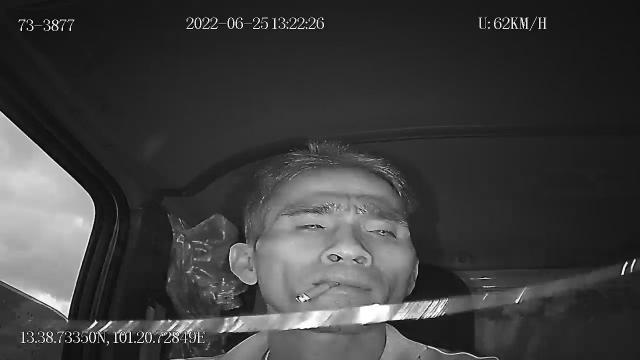SafeDriving: (355, 216, 406, 243), (284, 212, 334, 238)
Smoking: (296, 282, 340, 304)
